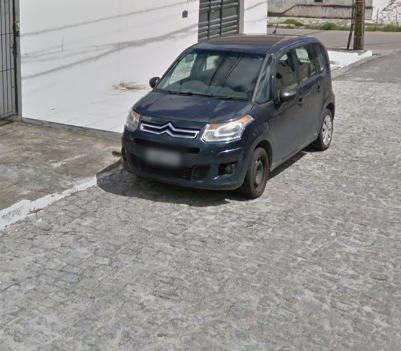car: (119, 15, 336, 200)
